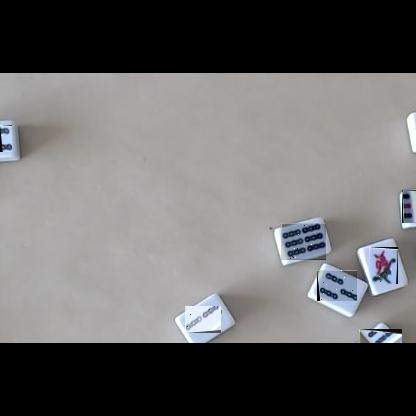1s: (369, 247, 398, 284)
2s: (185, 306, 221, 333)
3s: (317, 270, 357, 301)
4s: (0, 125, 12, 152)
6s: (281, 223, 326, 260)
7s: (359, 329, 402, 343)
9s: (402, 190, 416, 223)
